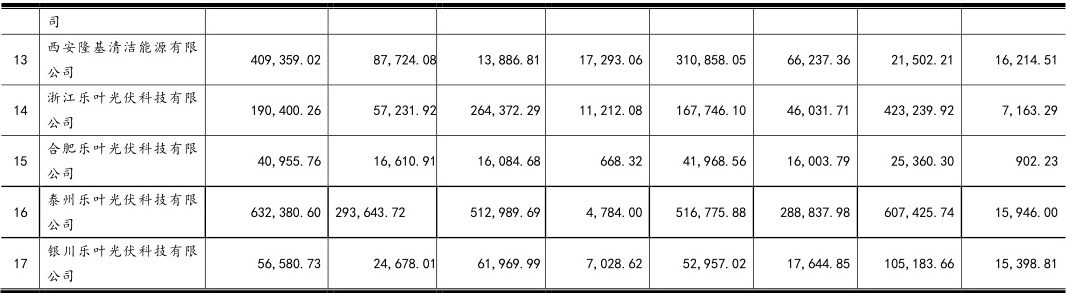column: (47, 1, 198, 293), (335, 1, 435, 293), (468, 1, 542, 293), (674, 1, 748, 292), (883, 2, 957, 293), (250, 1, 323, 293), (779, 1, 852, 292), (579, 1, 643, 292), (995, 1, 1057, 292), (14, 1, 29, 293)
row: (1, 64, 1066, 79), (1, 191, 1066, 206), (1, 14, 1066, 28), (1, 40, 1066, 54), (1, 91, 1066, 105), (1, 205, 1066, 219), (1, 257, 1066, 271), (1, 141, 1066, 154), (1, 244, 1066, 257), (1, 53, 1066, 65), (1, 105, 1066, 117), (1, 117, 1066, 129), (1, 167, 1066, 179), (1, 218, 1066, 230), (1, 270, 1066, 282)
